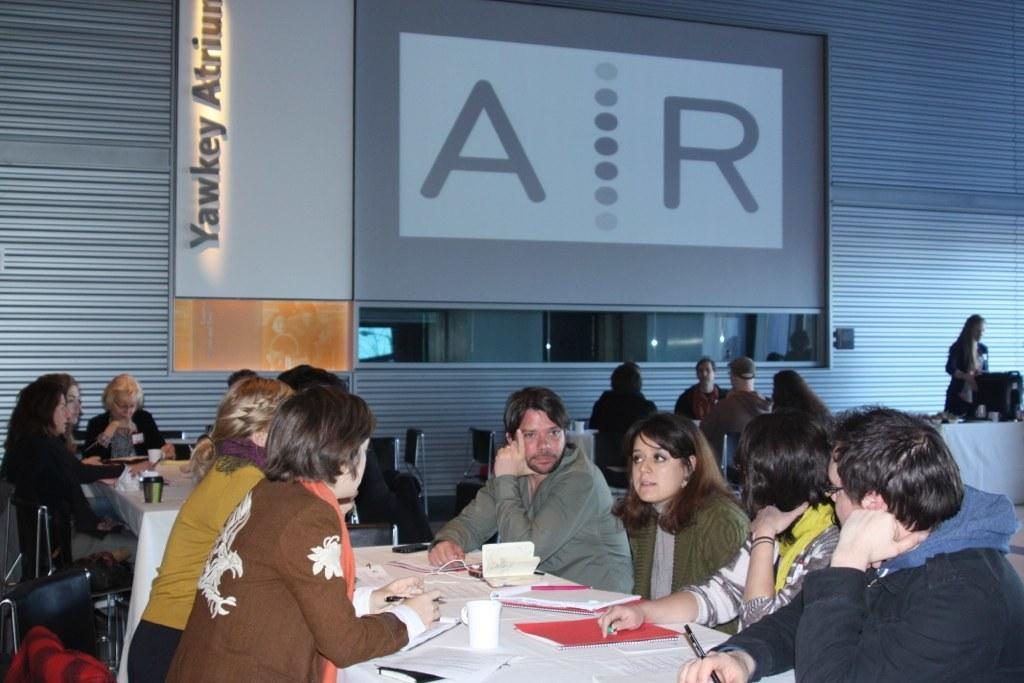Sem Máscara: (630, 428, 684, 503), (513, 402, 564, 472), (823, 450, 856, 520), (110, 397, 133, 425), (61, 383, 77, 423), (694, 358, 712, 380)
